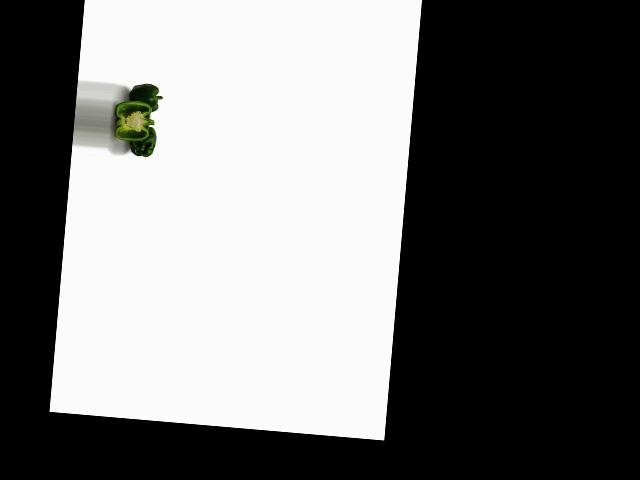bell_pepper: (124, 122, 160, 160)
